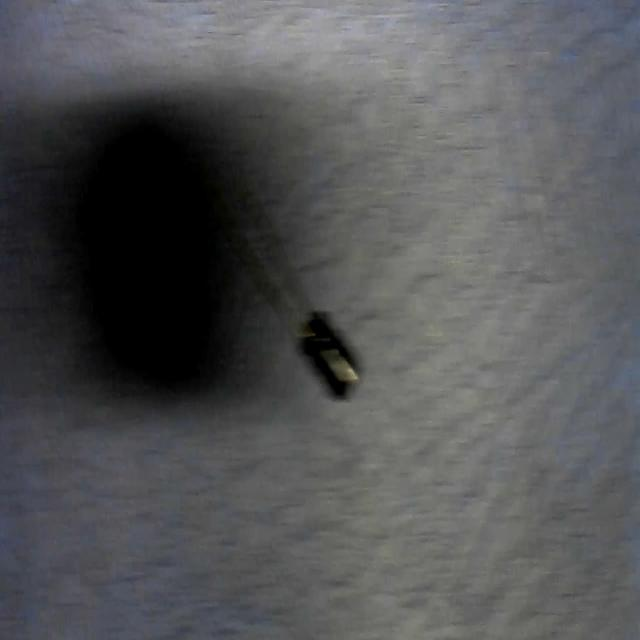capacitor: (228, 172, 354, 402)
